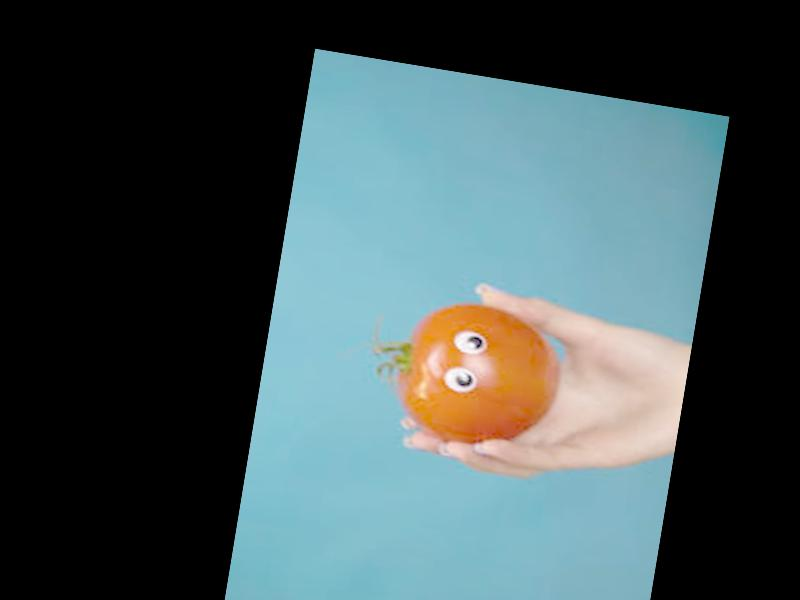Tomato: (386, 291, 570, 458)
